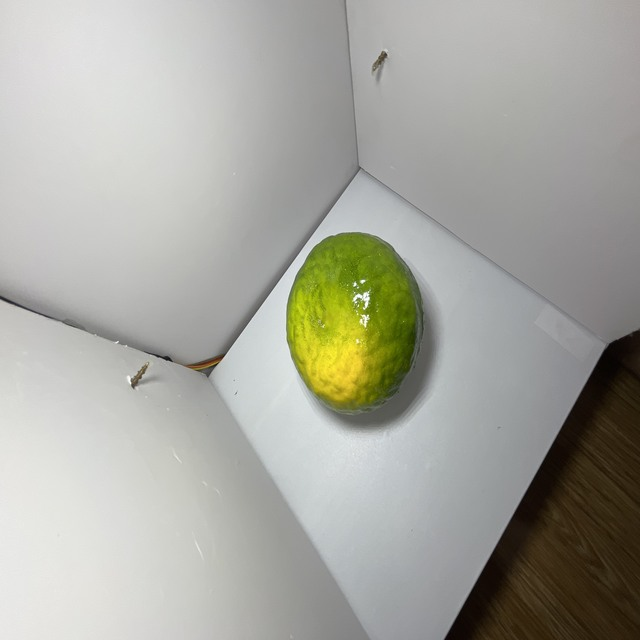Cam xanh: (283, 231, 430, 423)
